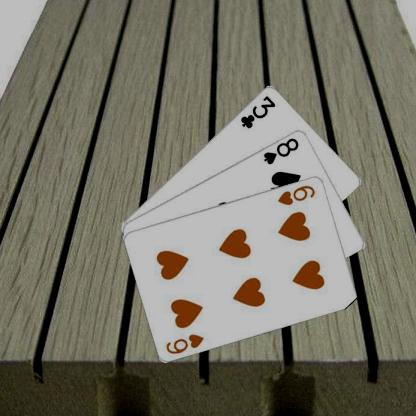3C: (238, 92, 277, 130)
6H: (275, 182, 317, 206), (164, 331, 205, 355)
8S: (261, 135, 300, 165)
